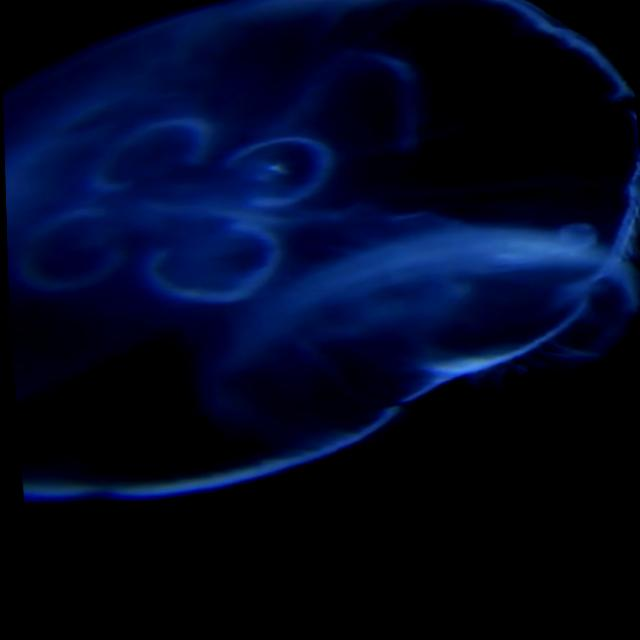Moon-jellyfish: (2, 0, 640, 499)
